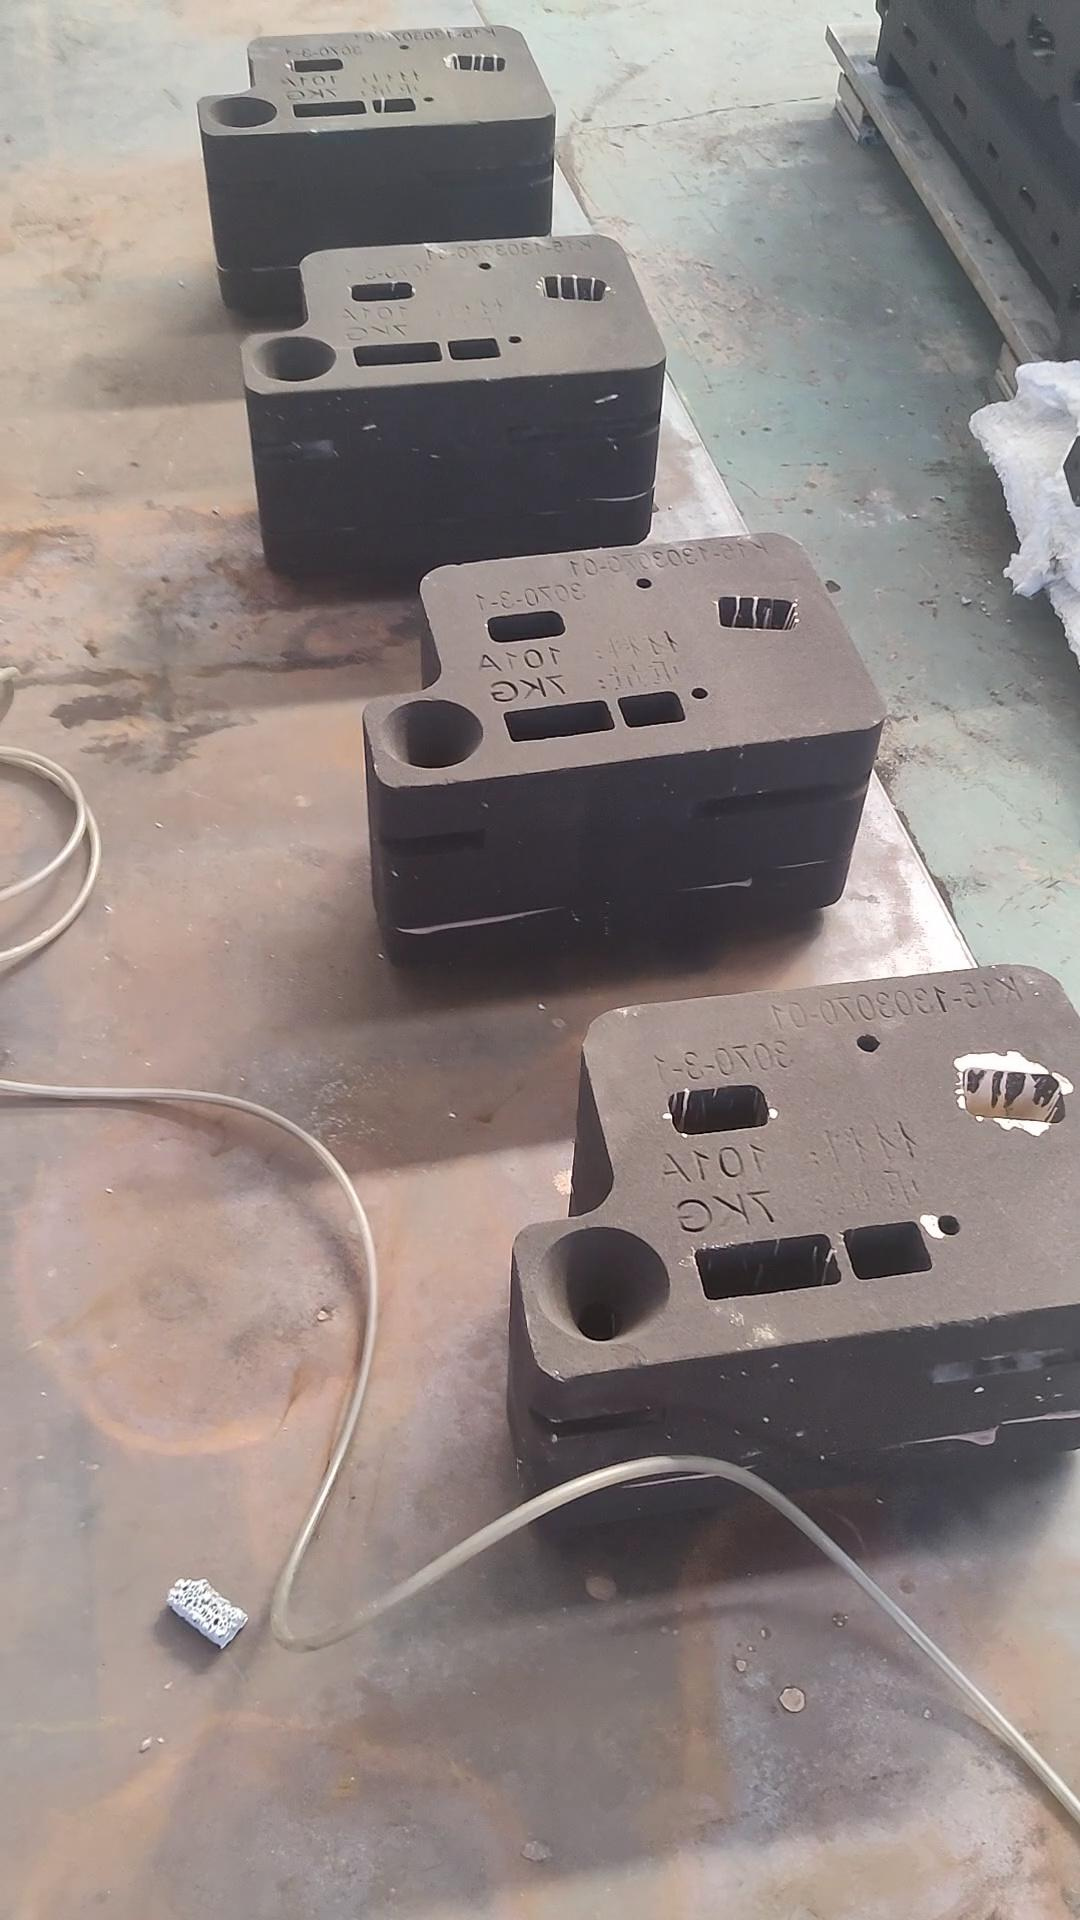pouring hole: (534, 1226, 670, 1342), (380, 698, 484, 769), (251, 335, 338, 382), (208, 98, 278, 128)
